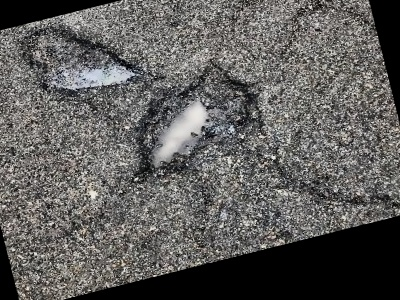pothole: (110, 48, 274, 185), (13, 5, 145, 108)
